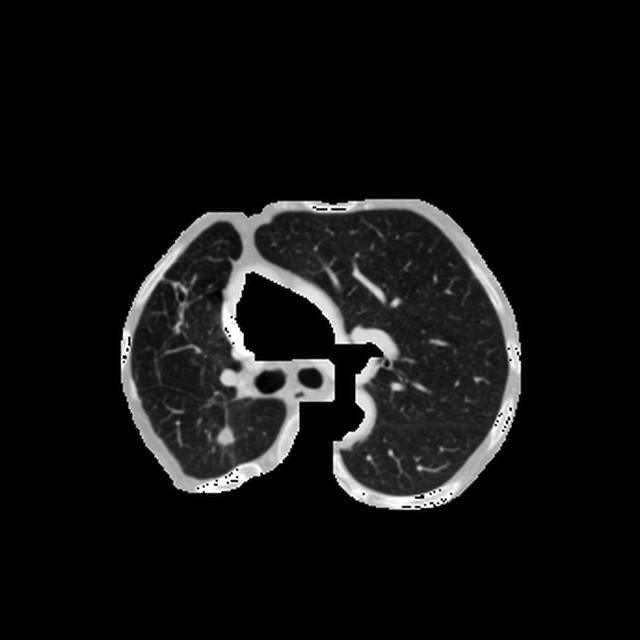PN: (216, 428, 234, 447)
